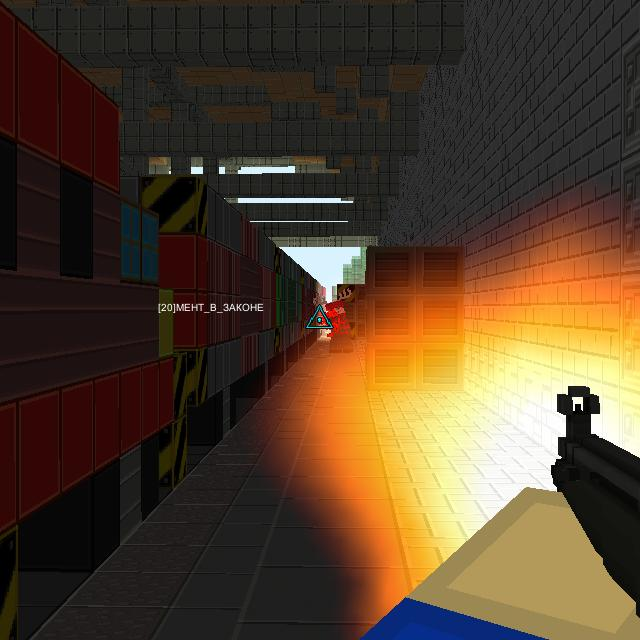enemy: (315, 288, 356, 354)
